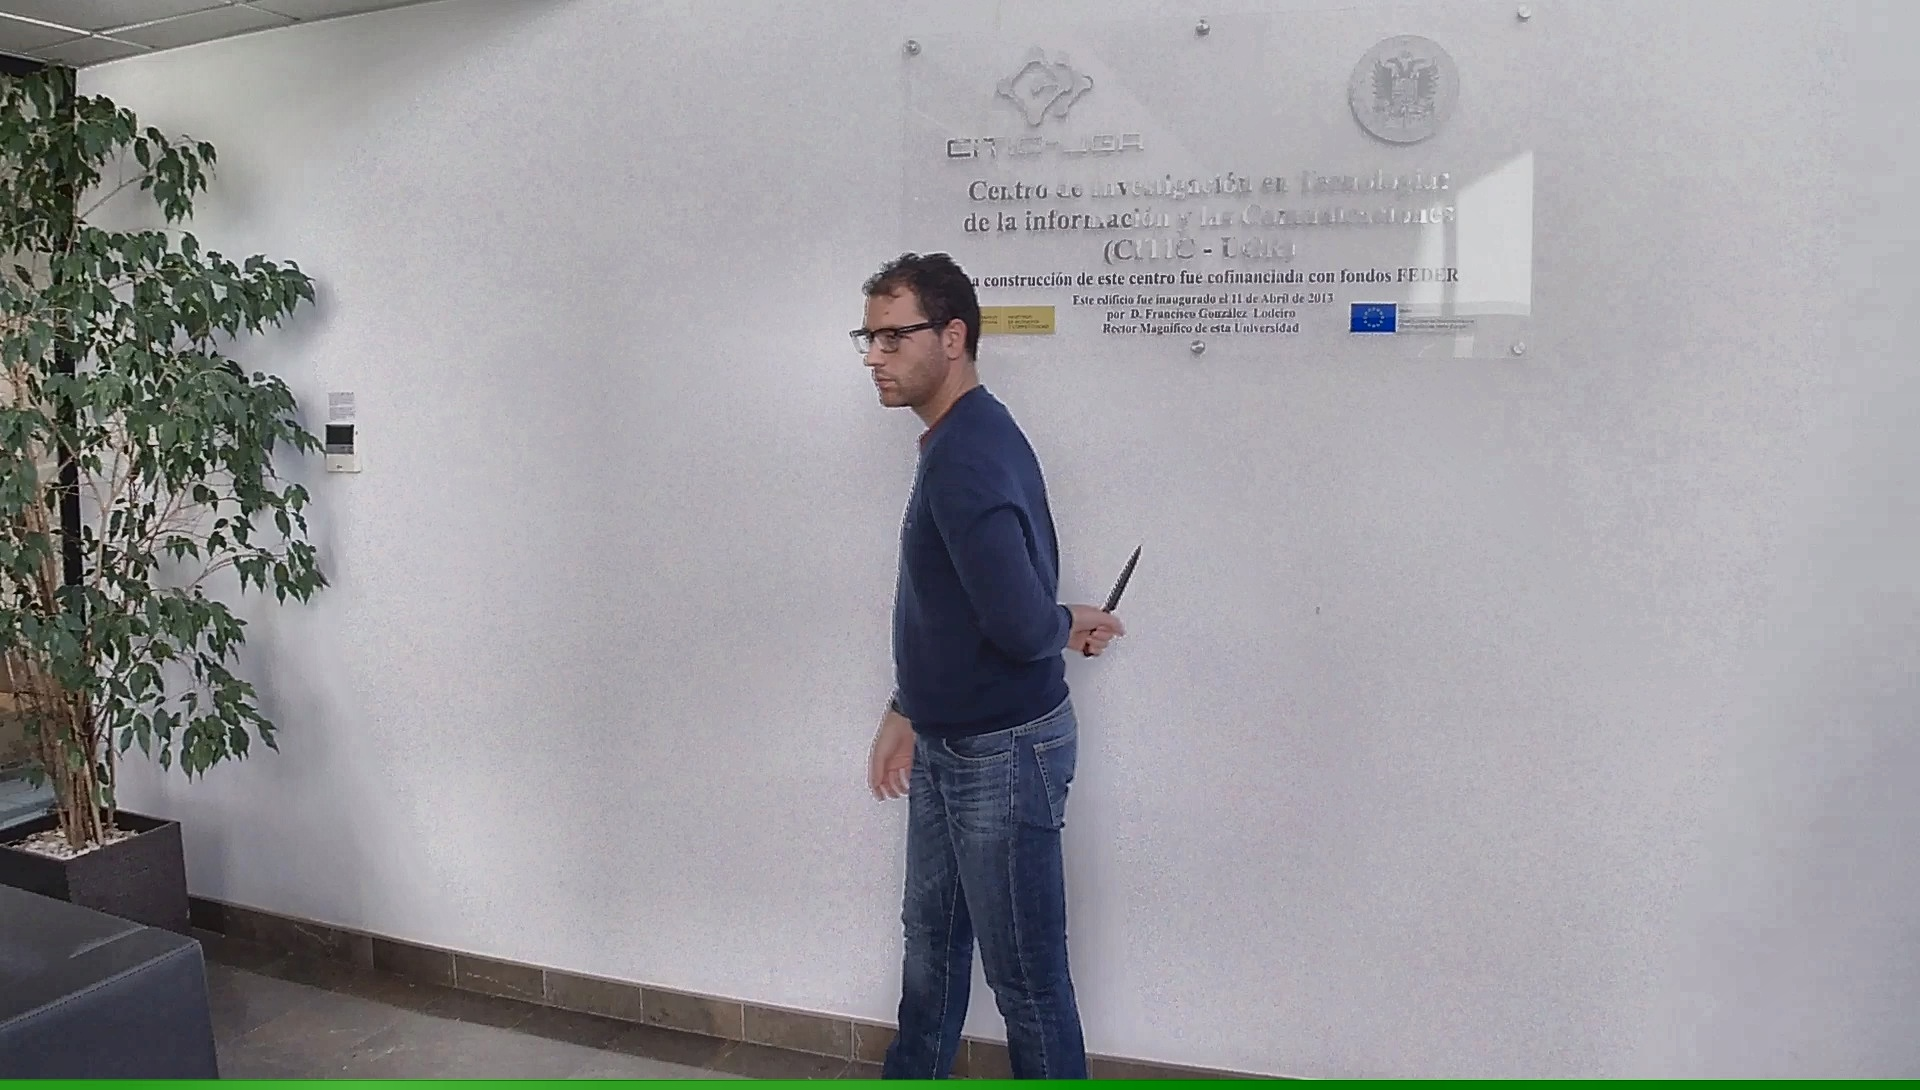knife: (1077, 532, 1150, 666)
